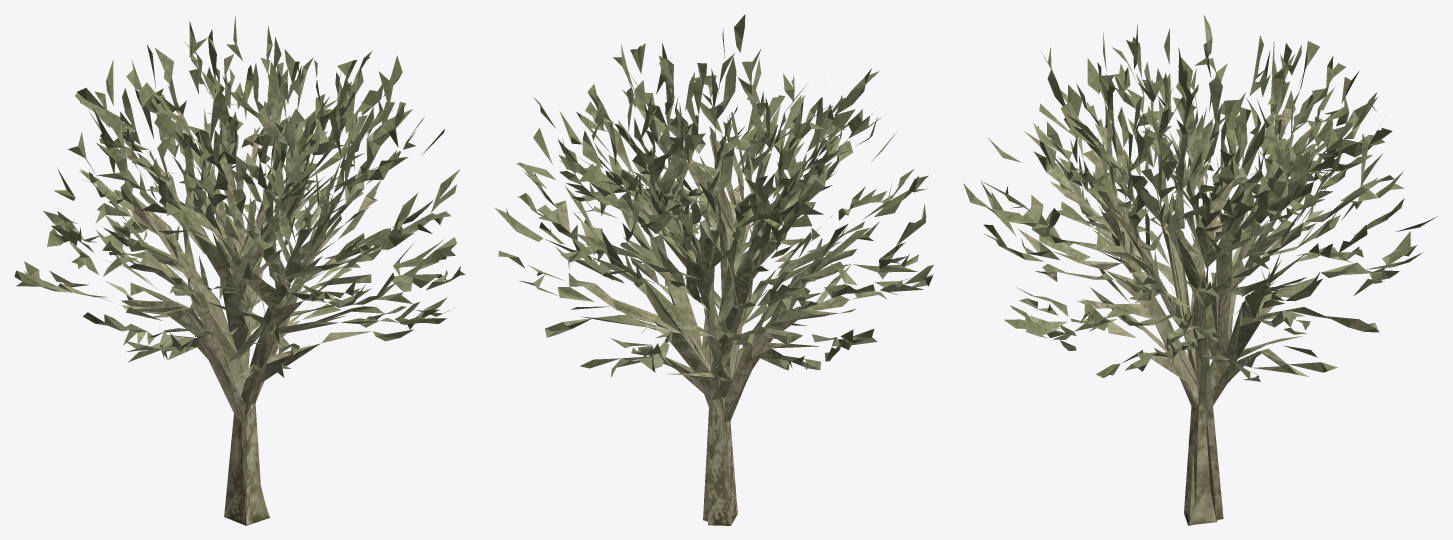
File: tree_plane.glb
3 views of the same model, side by side, from view 1: azimuth 30°, elevation 25°; view 2: azimuth 150°, elevation 25°; view 3: azimuth 270°, elevation 25° (orthographic). The views are drawn at different scales.
Visible parts, largest first — view 1: Mesh_0; view 2: Mesh_0; view 3: Mesh_0.
Part boxes in pixels (x1,y1,x2,y2): Mesh_0: [14, 16, 464, 525]; Mesh_0: [494, 14, 933, 525]; Mesh_0: [963, 15, 1437, 525].
Bounding box in the file's own units: 6.15 × 7 × 6.06.
Materials: 1 (1 with a texture image).
